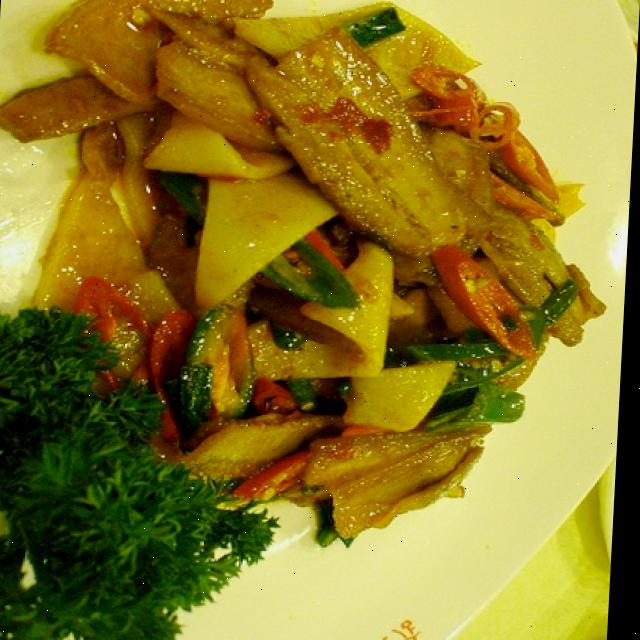猪肉菜式: (0, 0, 640, 630)
